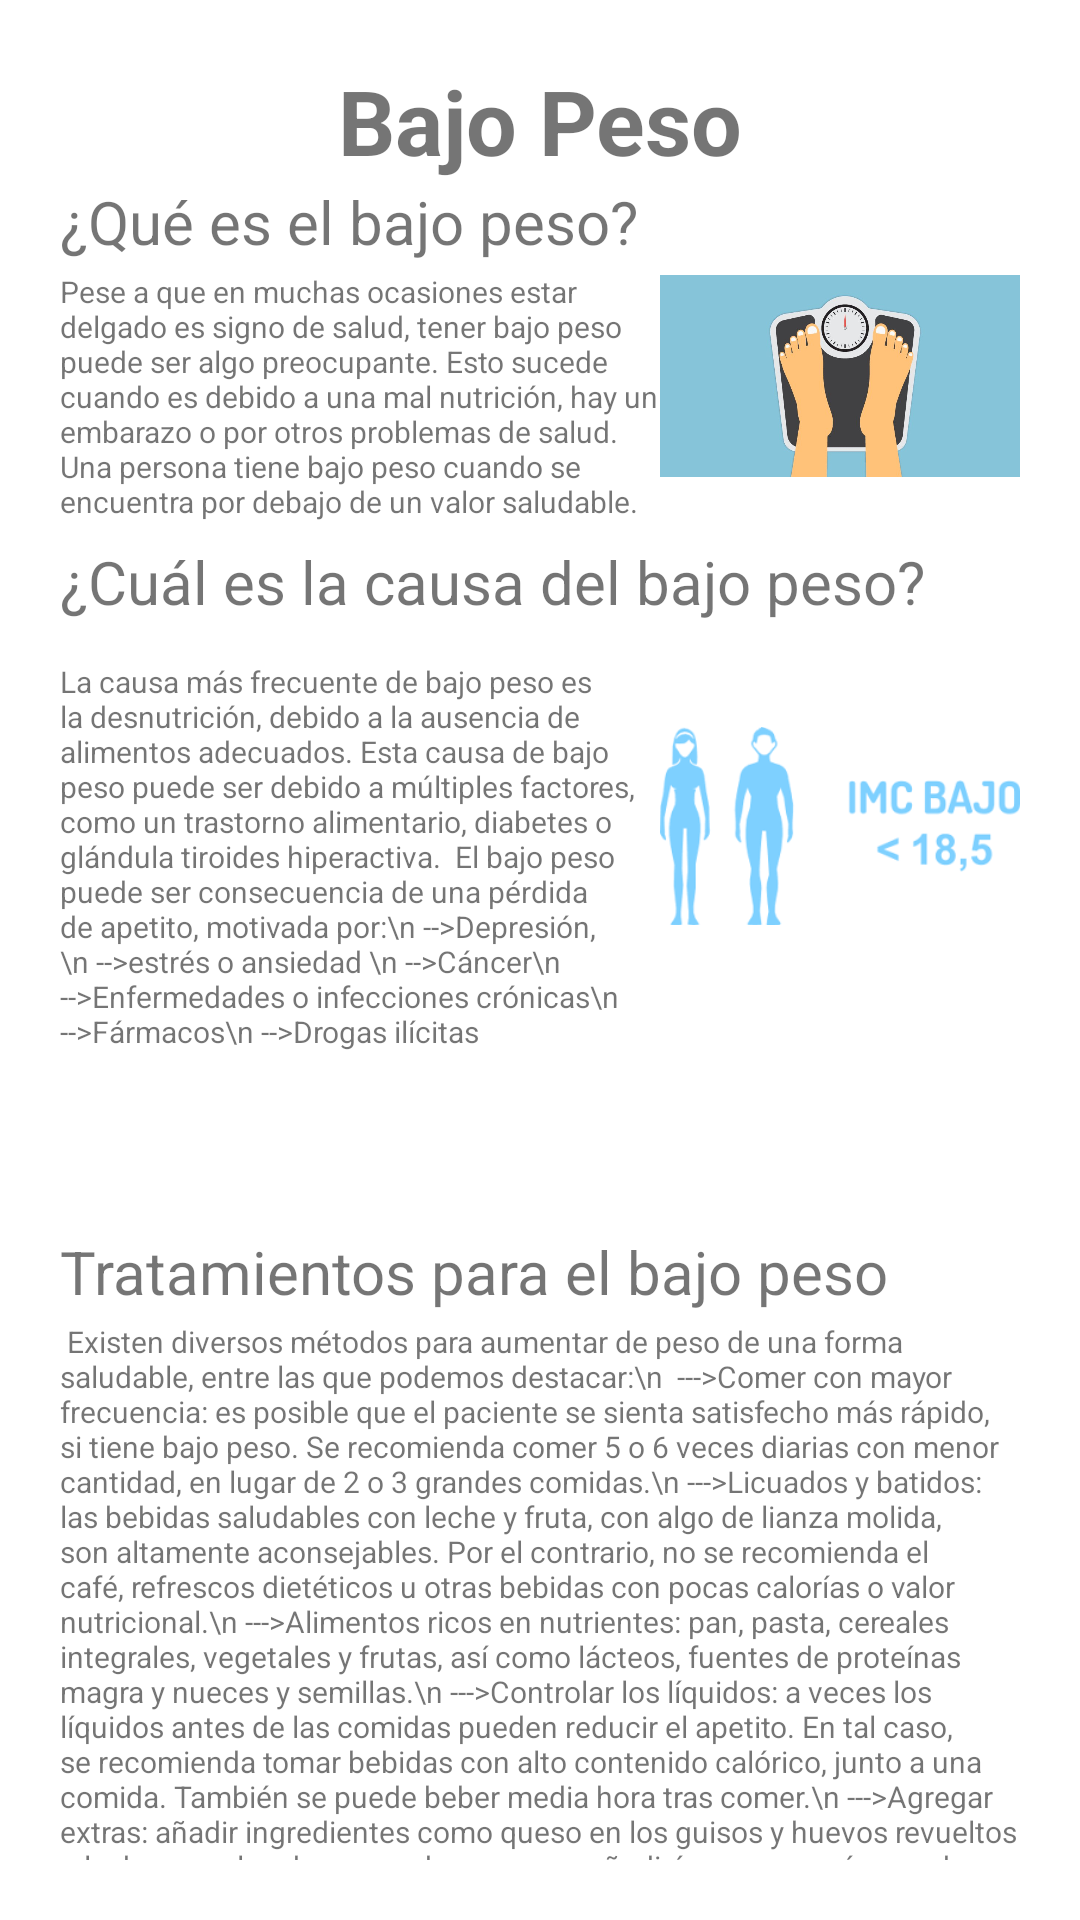

Named icons in this screenshot (1080px x 1920px) and their centers, point (x, y):
balanza: point (840, 376)
